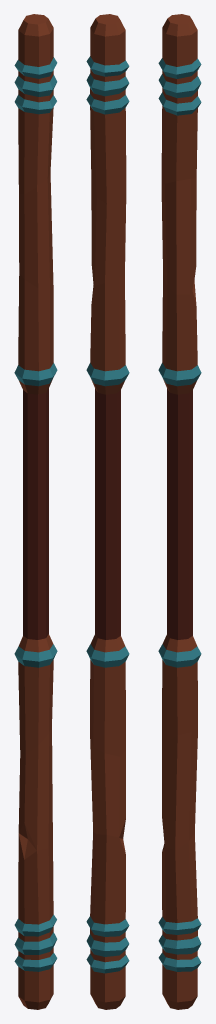
File: staff.fbx
The picture shows the model from 3 angles, left to right: view 1: azimuth 30°, elevation 25°; view 2: azimuth 150°, elevation 25°; view 3: azimuth 330°, elevation 25°; orthographic projection.
Parts seen in each view (by area): view 1: staff; view 2: staff; view 3: staff.
Part boxes in pixels (bbox=[...]): staff: bbox=[14, 14, 57, 1009]; staff: bbox=[86, 14, 129, 1009]; staff: bbox=[158, 14, 201, 1009].
Bounding box in the file's own units: 3.34 × 89.07 × 3.34.
